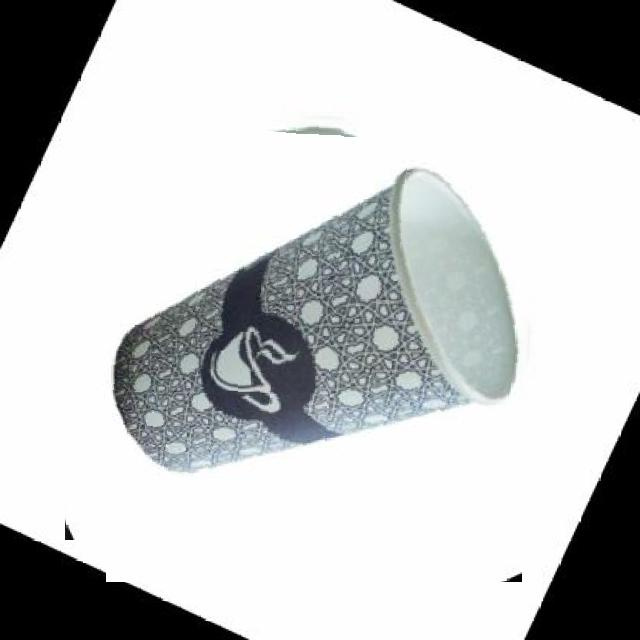non-biodegradable: (83, 102, 545, 563)
